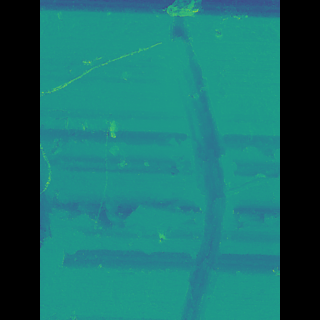Loch: (162, 7, 218, 319)
